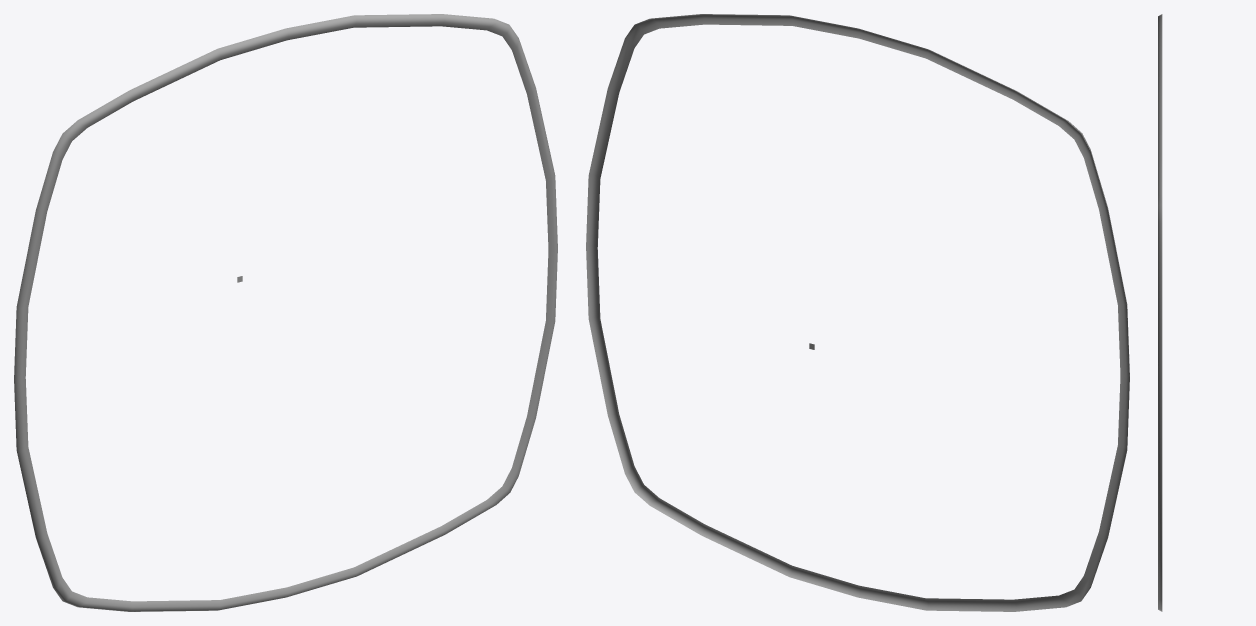
The model's file is MeshPan_17_0_GeomSubset_2.obj.
The picture shows the model from 3 angles, left to right: view 1: azimuth 30°, elevation 25°; view 2: azimuth 150°, elevation 25°; view 3: azimuth 270°, elevation 25°; orthographic projection. The views are drawn at different scales.
Parts seen in each view (by area): view 1: MeshPan_17_0_GeomSubset_2; view 2: MeshPan_17_0_GeomSubset_2; view 3: MeshPan_17_0_GeomSubset_2.
Part boxes in pixels (bbox=[...]): MeshPan_17_0_GeomSubset_2: bbox=[14, 14, 557, 611]; MeshPan_17_0_GeomSubset_2: bbox=[586, 14, 1129, 611]; MeshPan_17_0_GeomSubset_2: bbox=[1158, 14, 1162, 611].
Size of the model in its own units: 0.2894 by 0.2894 by 0.0447.
